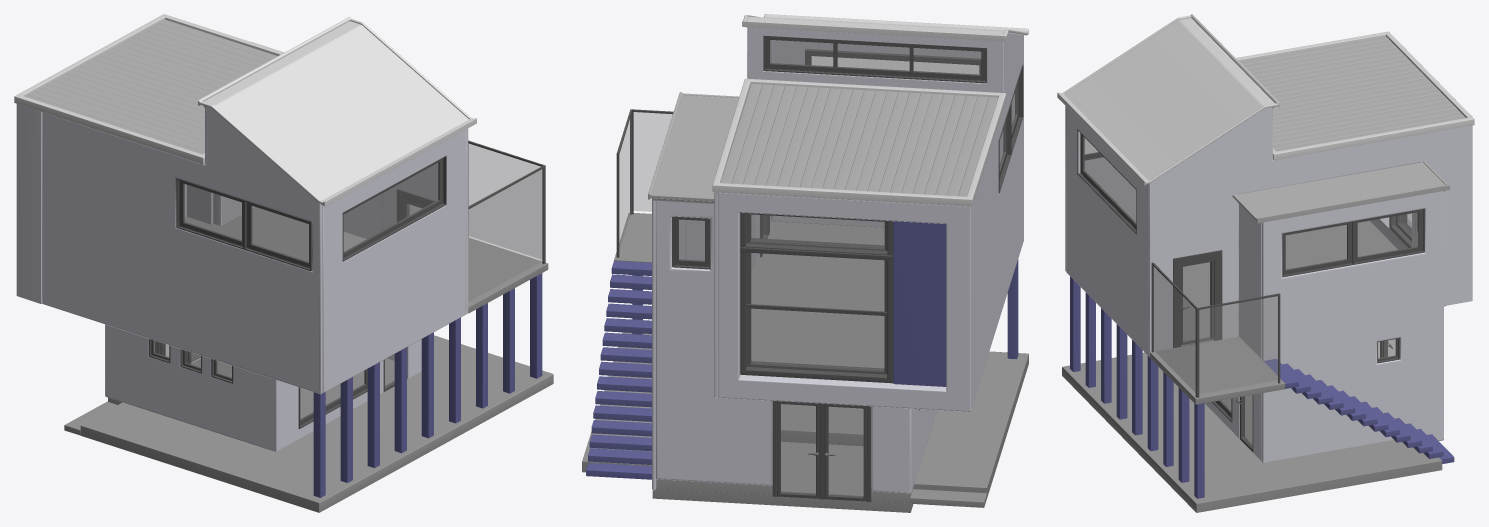
The model's file is house.glb.
The picture shows the model from 3 angles, left to right: view 1: azimuth 30°, elevation 25°; view 2: azimuth 150°, elevation 25°; view 3: azimuth 270°, elevation 25°; orthographic projection. The views are drawn at different scales.
Visible parts, largest first — view 1: door_panel_right_001_mesh.010, door_panel_right_001_mesh.009, door_panel_right_001_mesh.002, door_panel_right_001_mesh.001, door_panel_right_001_mesh.008, door_panel_right_001_mesh.005, door_panel_right_001_mesh.011, door_panel_right_001_mesh.006; view 2: door_panel_right_001_mesh.010, door_panel_right_001_mesh.002, door_panel_right_001_mesh.001, door_panel_right_001_mesh.008, door_panel_right_001_mesh.011, door_panel_right_001_mesh, door_panel_right_001_mesh.009, door_panel_right_001_mesh.004, door_panel_right_001_mesh.006, door_panel_right_001_mesh.003, door_panel_right_001_mesh.005; view 3: door_panel_right_001_mesh.010, door_panel_right_001_mesh.002, door_panel_right_001_mesh.009, door_panel_right_001_mesh.008, door_panel_right_001_mesh.001, door_panel_right_001_mesh.005, door_panel_right_001_mesh.011, door_panel_right_001_mesh, door_panel_right_001_mesh.006.
Part boxes in pixels (x1,y1,x2,y2): door_panel_right_001_mesh.010: (16, 104, 468, 451); door_panel_right_001_mesh.009: (14, 14, 476, 206); door_panel_right_001_mesh.002: (64, 207, 553, 512); door_panel_right_001_mesh.001: (154, 143, 542, 419); door_panel_right_001_mesh.008: (25, 19, 283, 154); door_panel_right_001_mesh.005: (313, 273, 542, 497); door_panel_right_001_mesh.011: (148, 140, 545, 428); door_panel_right_001_mesh.006: (155, 188, 435, 391); door_panel_right_001_mesh.010: (652, 27, 1023, 493); door_panel_right_001_mesh.002: (582, 212, 1028, 512); door_panel_right_001_mesh.001: (619, 40, 1017, 496); door_panel_right_001_mesh.008: (648, 84, 997, 201); door_panel_right_001_mesh.011: (616, 35, 1023, 410); door_panel_right_001_mesh: (586, 260, 651, 479); door_panel_right_001_mesh.009: (712, 14, 1028, 206); door_panel_right_001_mesh.004: (893, 221, 946, 386); door_panel_right_001_mesh.006: (760, 215, 871, 502); door_panel_right_001_mesh.003: (652, 198, 913, 502); door_panel_right_001_mesh.005: (632, 259, 1018, 359); door_panel_right_001_mesh.010: (1065, 106, 1472, 462); door_panel_right_001_mesh.002: (1062, 221, 1442, 512); door_panel_right_001_mesh.009: (1057, 14, 1474, 185); door_panel_right_001_mesh.008: (1232, 36, 1465, 223); door_panel_right_001_mesh.001: (1083, 137, 1418, 446); door_panel_right_001_mesh.005: (1070, 276, 1204, 498); door_panel_right_001_mesh.011: (1077, 129, 1424, 422); door_panel_right_001_mesh: (1263, 359, 1454, 463); door_panel_right_001_mesh.006: (1173, 250, 1387, 452).
Bounding box in the file's own units: 9.99 × 8.44 × 9.13.
